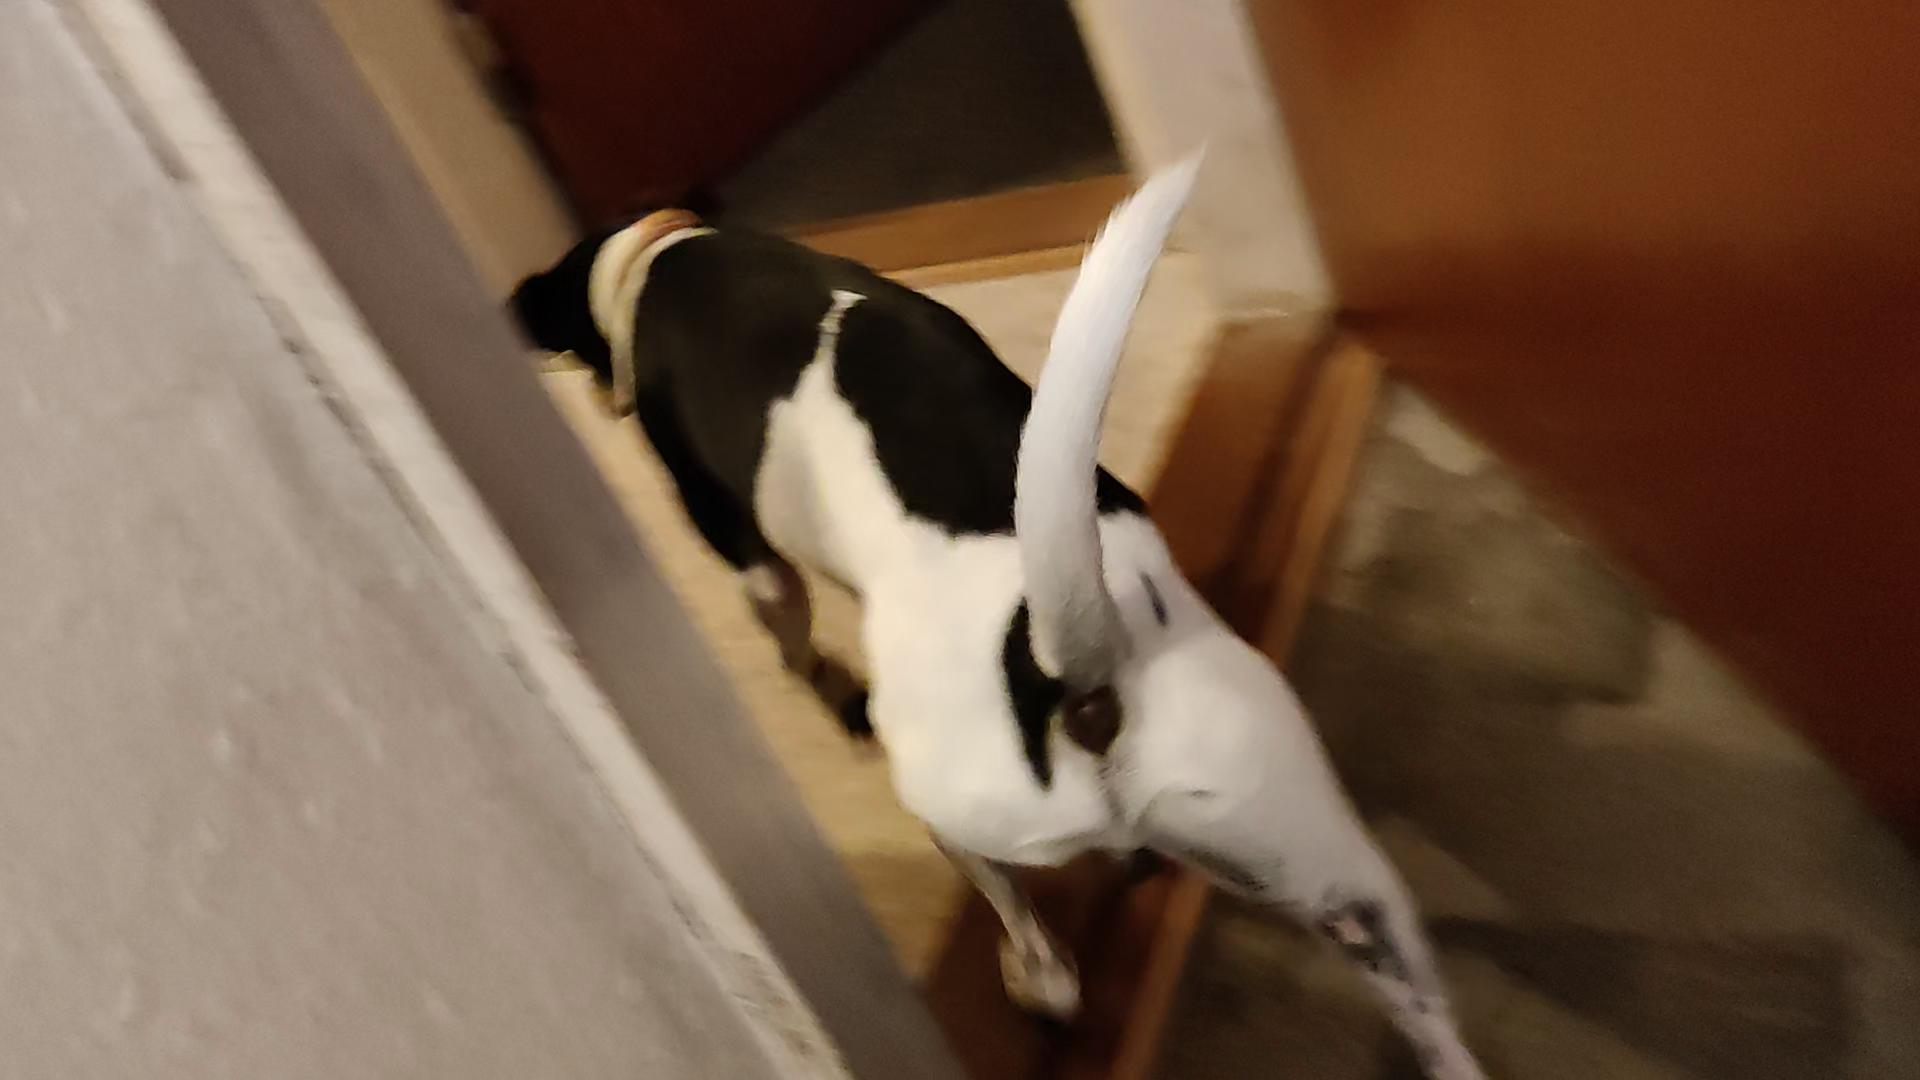Dog: (501, 131, 1487, 1079)
